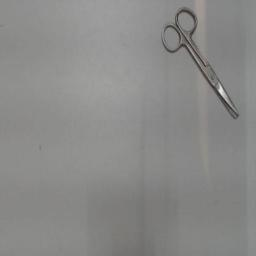Dressing Scissors: (156, 1, 246, 129)
